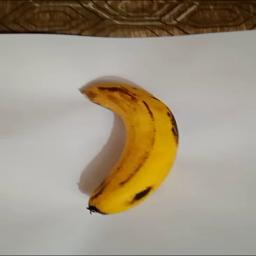Banana Semifresh: (76, 78, 180, 219)
